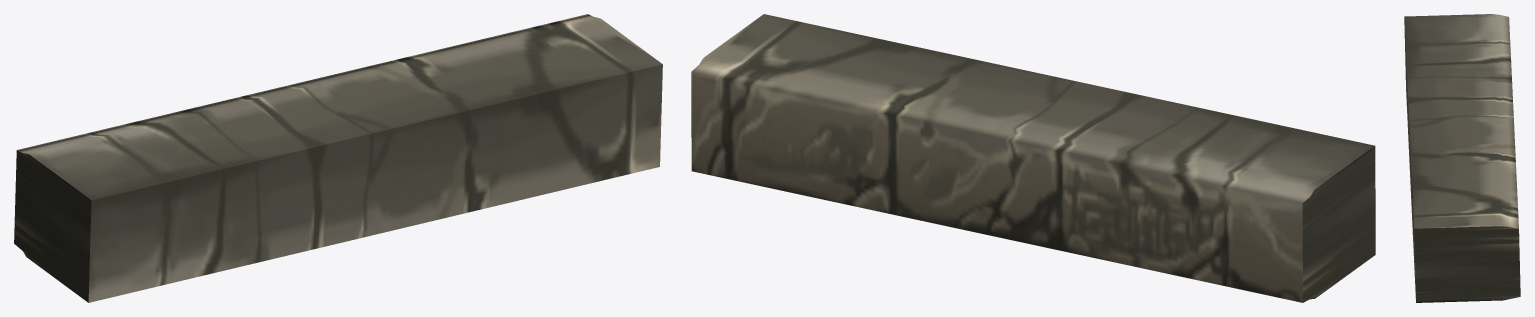
Rendered from mural top edge.fbx.
3 views of the same model, side by side, from view 1: azimuth 30°, elevation 25°; view 2: azimuth 150°, elevation 25°; view 3: azimuth 270°, elevation 25° (orthographic). The views are drawn at different scales.
Visible parts, largest first — view 1: pCube9; view 2: pCube9; view 3: pCube9.
Part boxes in pixels (box(x1,y1,x2,y2)): pCube9: box(14, 14, 662, 302); pCube9: box(691, 14, 1375, 302); pCube9: box(1404, 14, 1520, 302).
Bounding box in the file's own units: 49.51 × 9.39 × 11.8.
